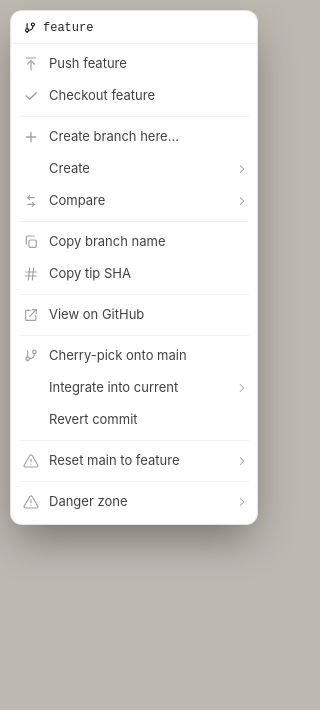
Scenario: BranchContextMenu › carries the commit menu's actions plus a forge link for a published branch
This screenshot has width=320, height=710.
expect the menu item "Cherry-pick onto main" is shown: met, box left=11, top=340, right=257, bottom=372
expect the menu item "Revert commit" is shown: met, box left=11, top=404, right=257, bottom=436
Click the menu item "Create" at (134, 169), box left=11, top=153, right=257, bottom=185
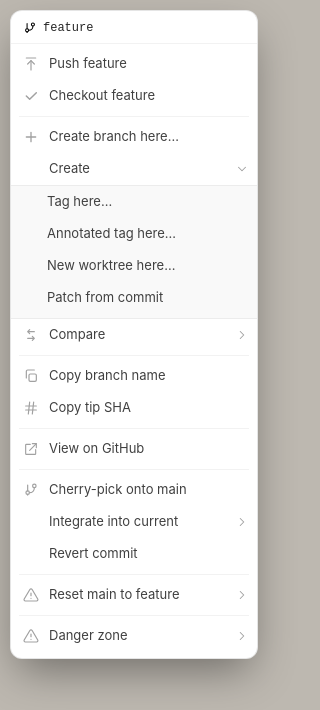
expect the menu item "Patch from commit" is shown: met, box left=11, top=282, right=257, bottom=314
